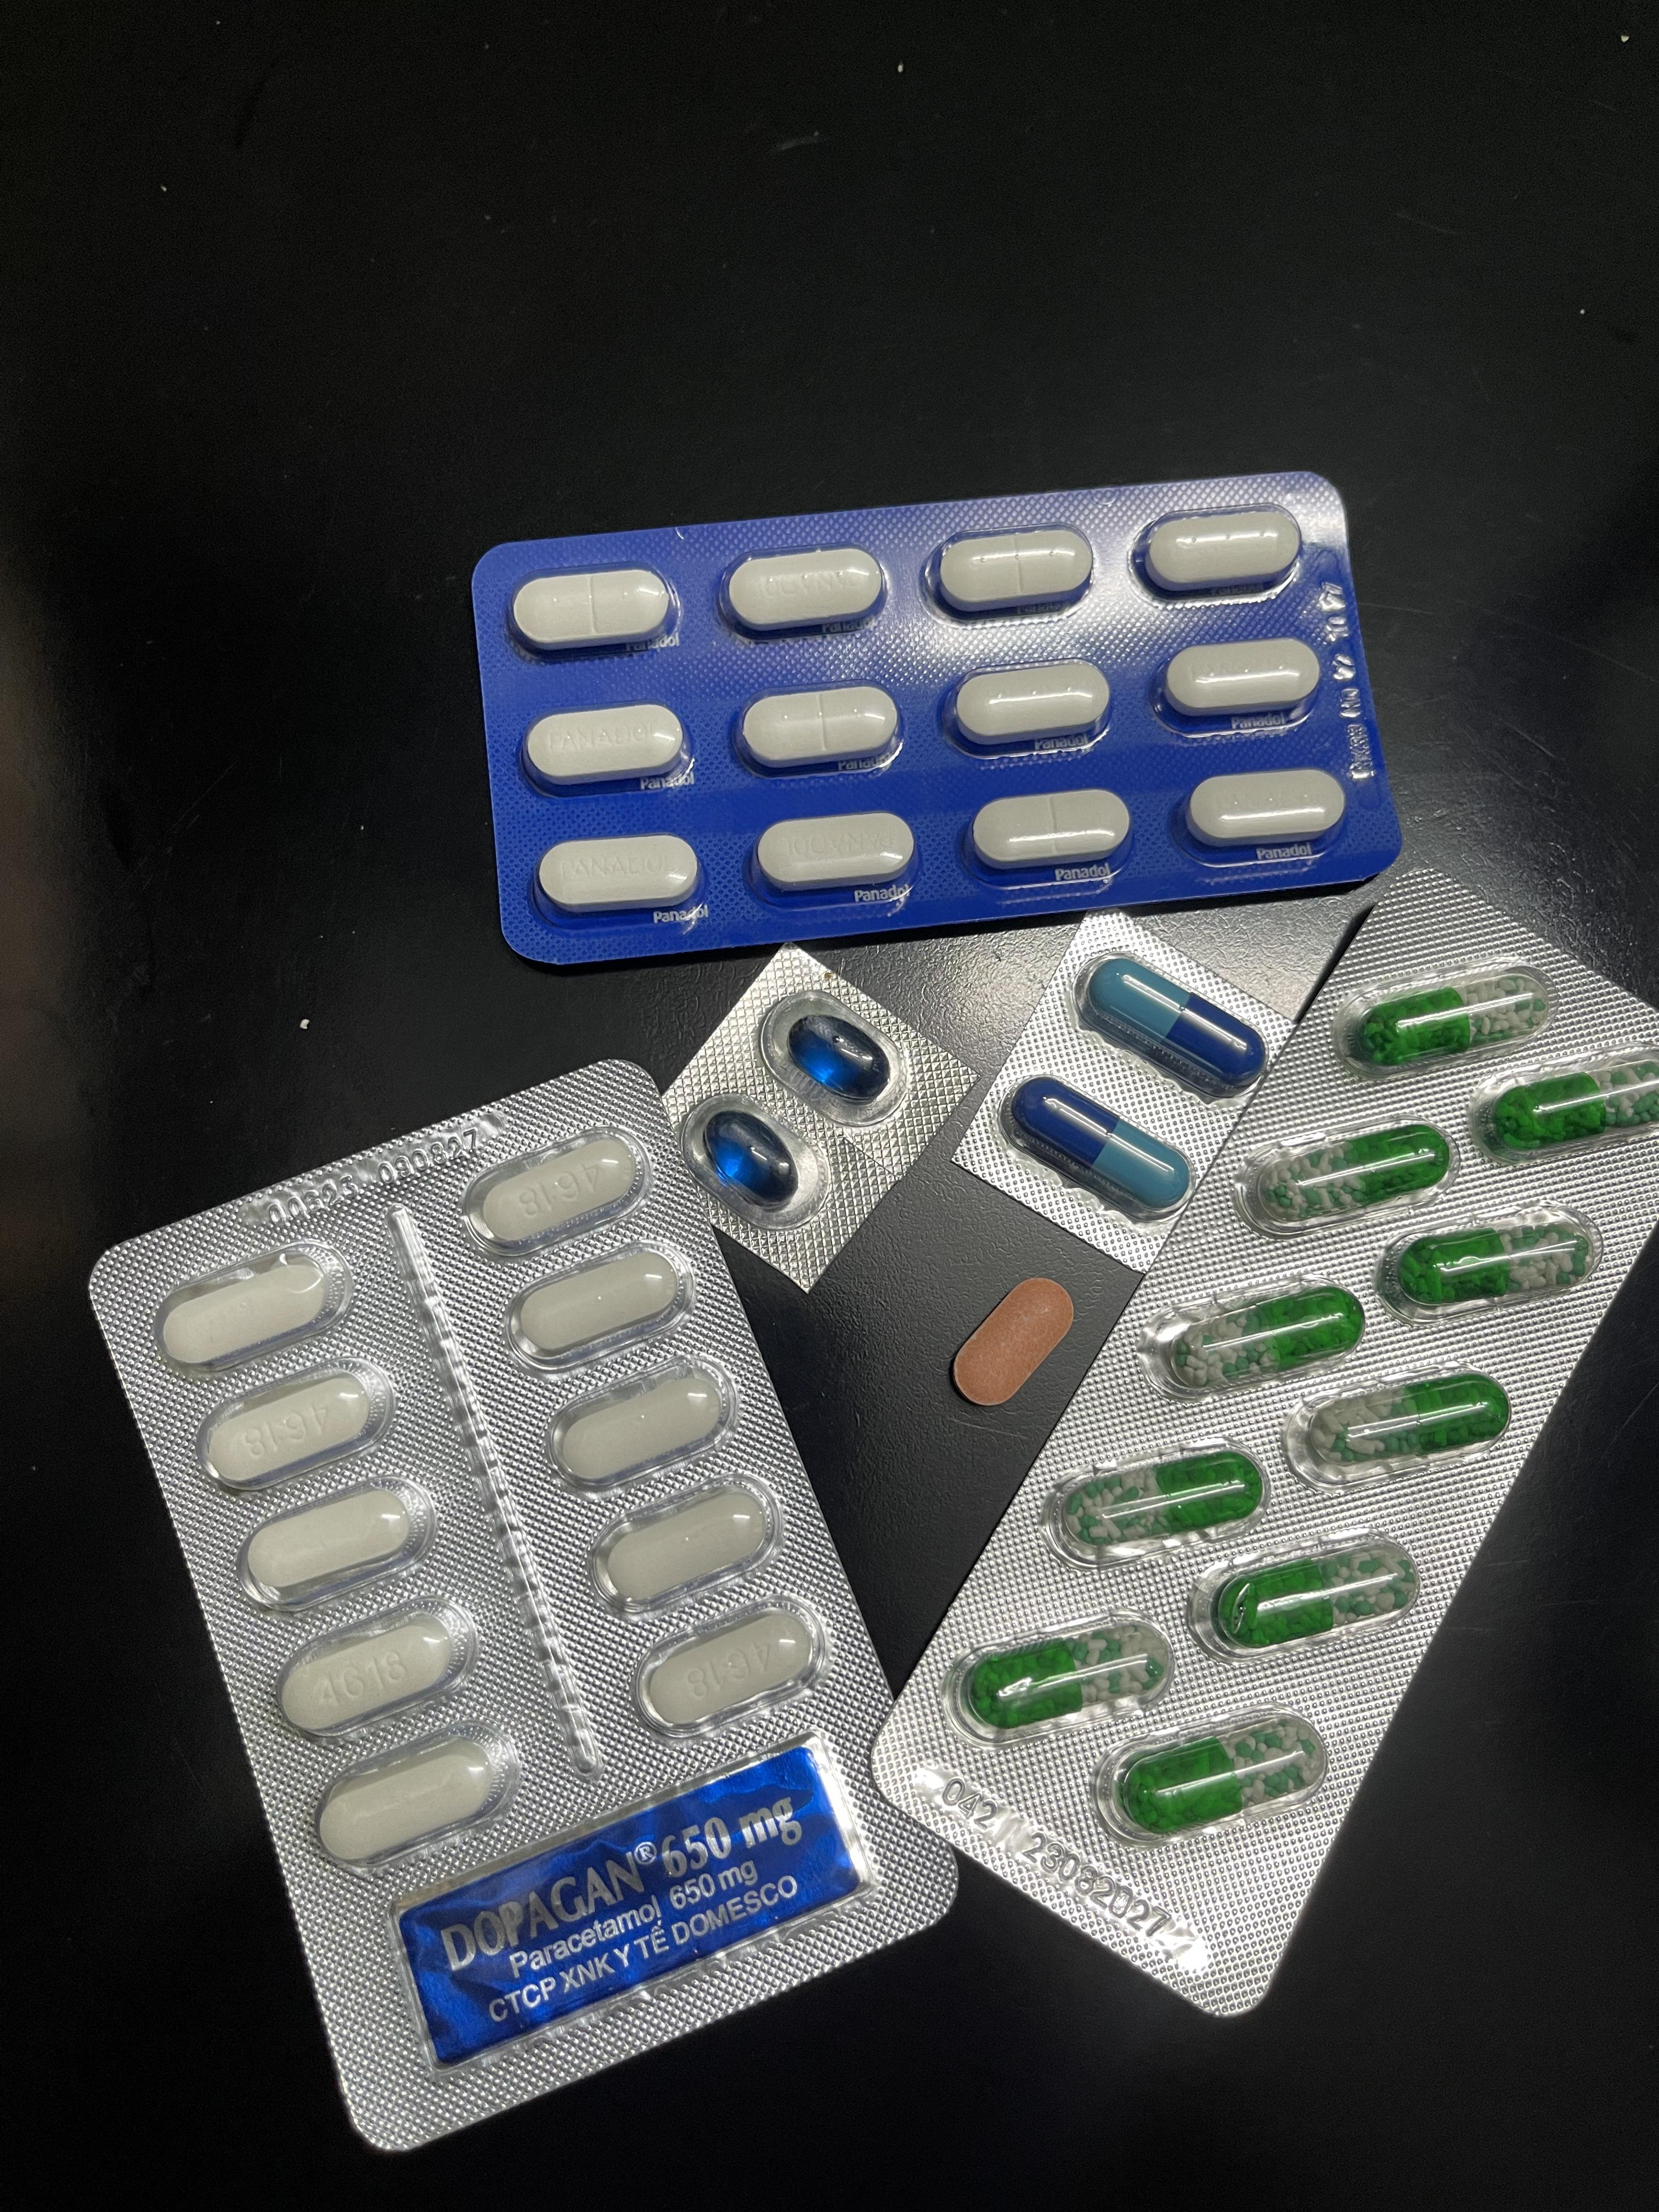Lincomyxin_500mg: (702, 1109, 796, 1204), (791, 1014, 892, 1099)
Loratadine_10mg: (950, 1275, 1077, 1407)
Paracetamol_350mg: (725, 547, 894, 636), (1140, 507, 1305, 597), (934, 528, 1100, 617), (739, 686, 904, 773), (953, 662, 1114, 751), (525, 704, 690, 789), (1185, 768, 1352, 852), (512, 568, 673, 655), (537, 834, 702, 918), (969, 787, 1129, 873), (755, 810, 917, 892), (1164, 637, 1323, 721)
Paracetamol_500mg: (310, 1726, 516, 1869), (270, 1594, 474, 1735), (232, 1468, 432, 1608), (197, 1359, 396, 1494), (155, 1242, 354, 1376), (586, 1475, 775, 1615), (633, 1599, 823, 1738), (538, 1352, 727, 1487), (505, 1242, 690, 1369), (460, 1129, 645, 1252)
Paracetamol_650mg: (1206, 1538, 1410, 1648), (1119, 1724, 1310, 1834), (964, 1625, 1157, 1728), (1168, 1287, 1363, 1388), (1070, 1451, 1262, 1548), (1253, 1127, 1446, 1221), (1330, 1378, 1516, 1472), (1356, 986, 1546, 1069), (1490, 1062, 1659, 1150), (1401, 1226, 1584, 1305)
pill: (1079, 958, 1262, 1094), (1007, 1080, 1187, 1216)
